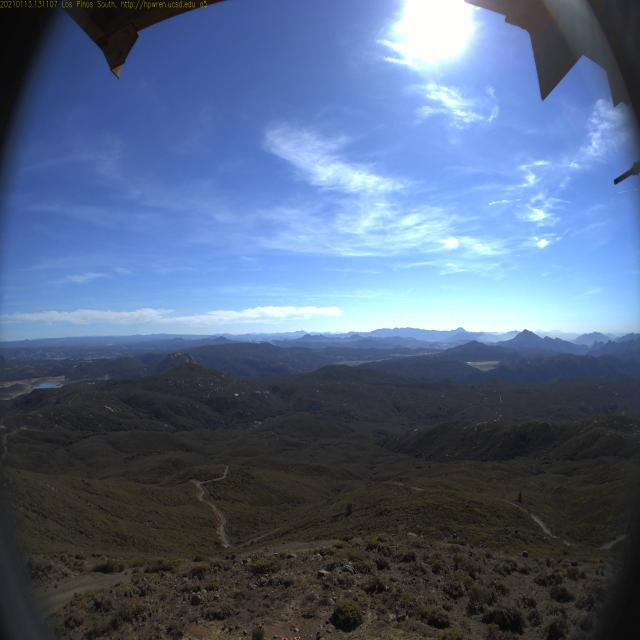smoke: (246, 333, 278, 348)
